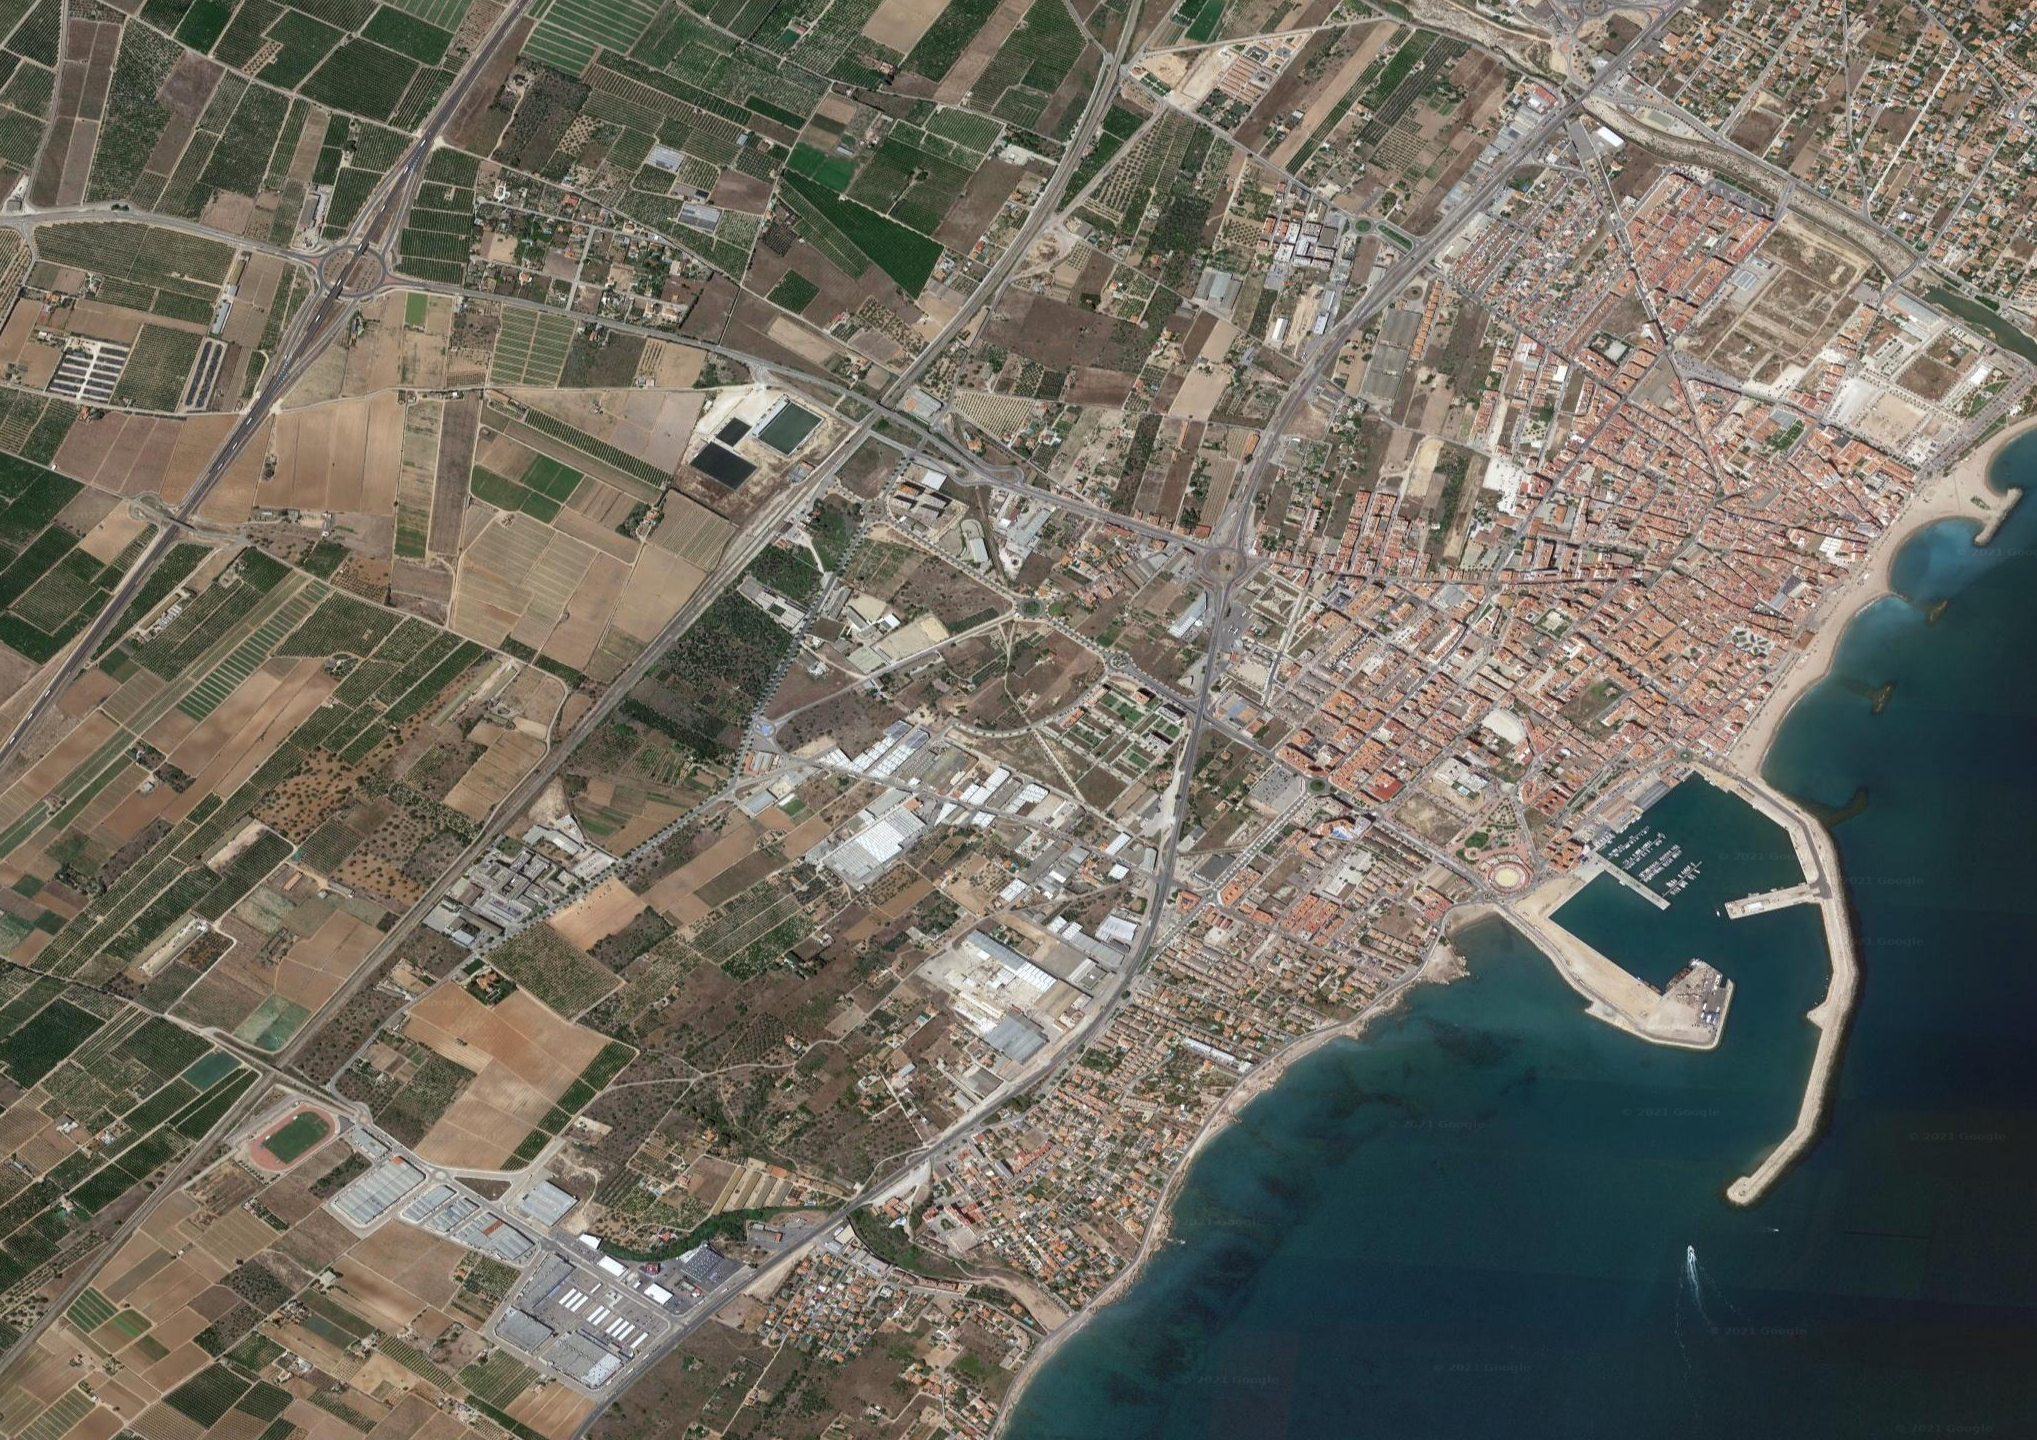bridge: (853, 390, 910, 429)
harbor: (1534, 740, 1873, 1209)
industrial: (789, 714, 1044, 895), (934, 898, 1119, 1085)
motorway: (362, 2, 527, 224), (916, 140, 1074, 369), (432, 708, 597, 899), (273, 895, 436, 1068), (251, 224, 401, 411), (600, 542, 753, 708), (132, 1055, 284, 1216), (701, 1181, 874, 1322), (125, 407, 259, 588), (2, 584, 134, 764), (873, 1060, 1052, 1191), (2, 1216, 137, 1371), (570, 1318, 709, 1440), (1058, 2, 1160, 145), (1061, 927, 1158, 1058), (750, 432, 853, 550), (1237, 366, 1322, 497), (1205, 482, 1269, 630), (1142, 781, 1206, 927), (1170, 636, 1234, 782)
